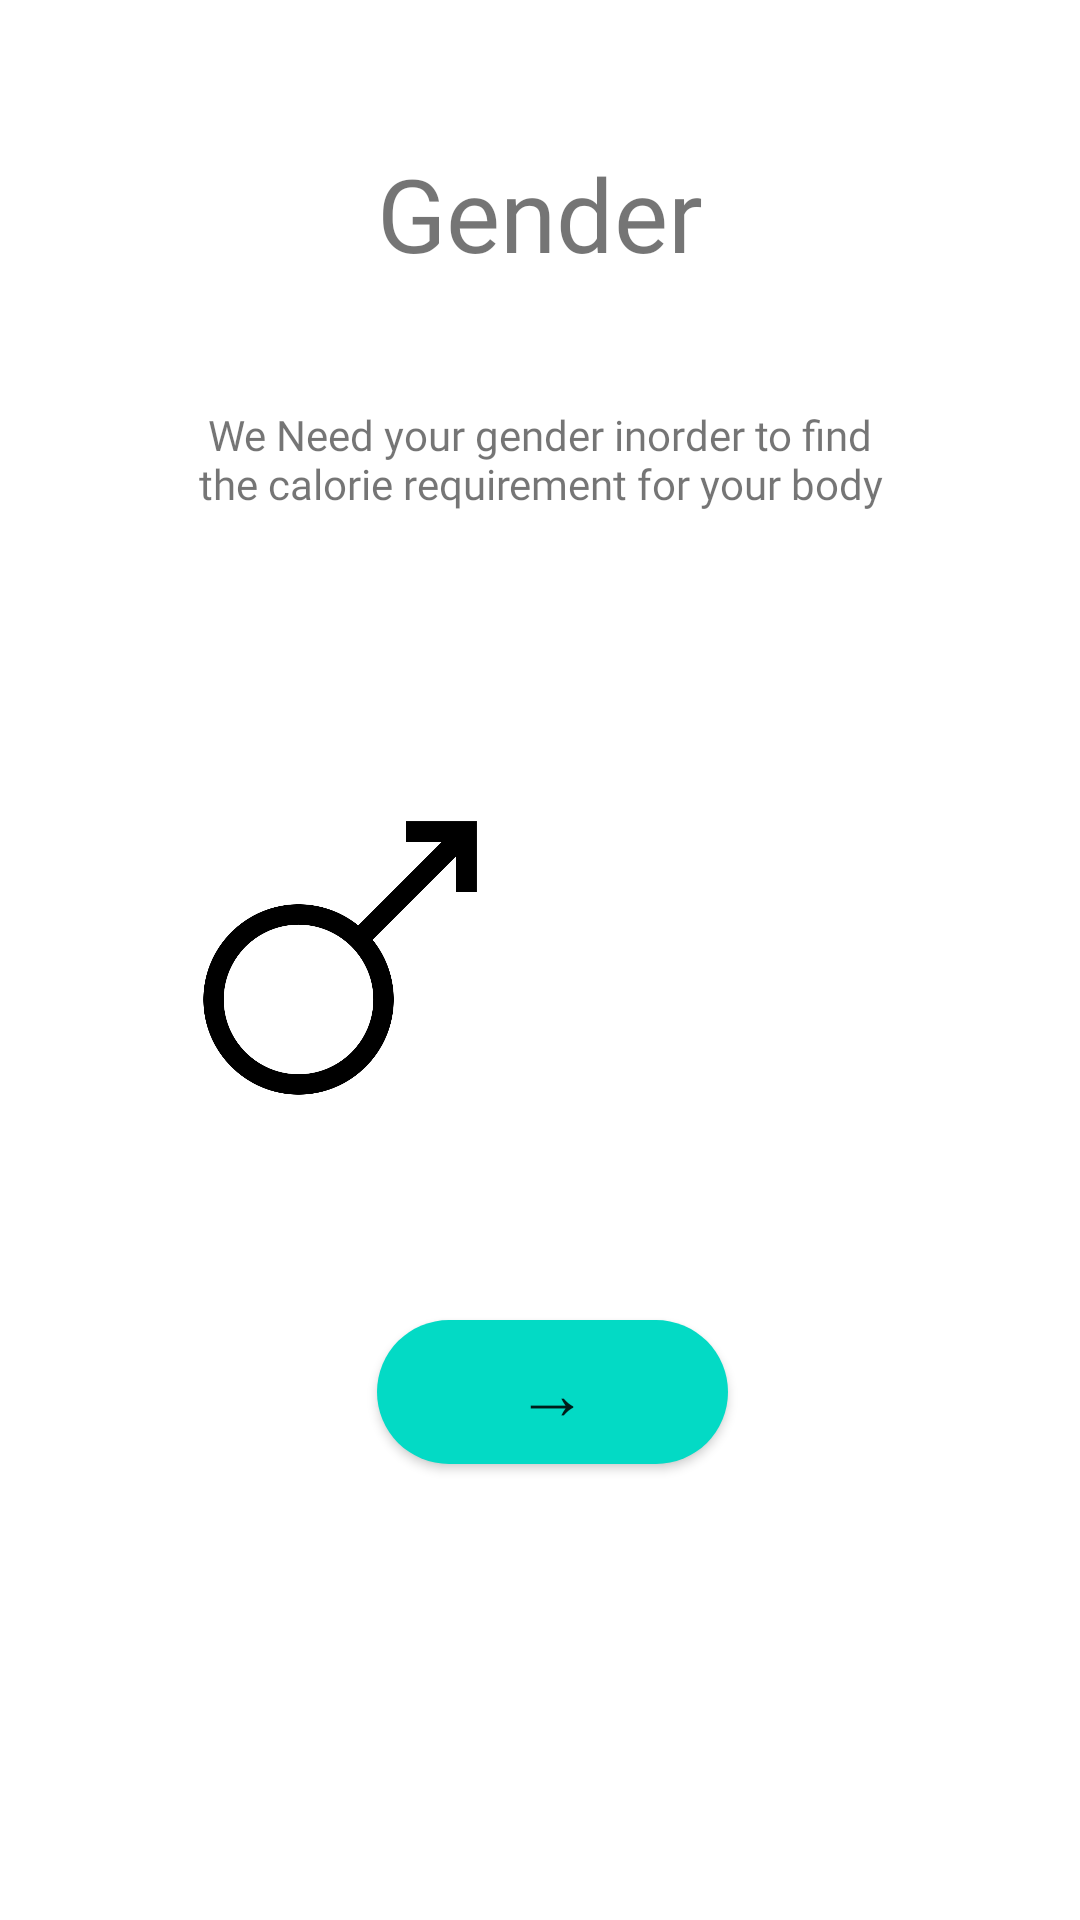

Icon click points for this 1080 x 1920 phone screenshot, format [x,y]:
male: [340,958]
